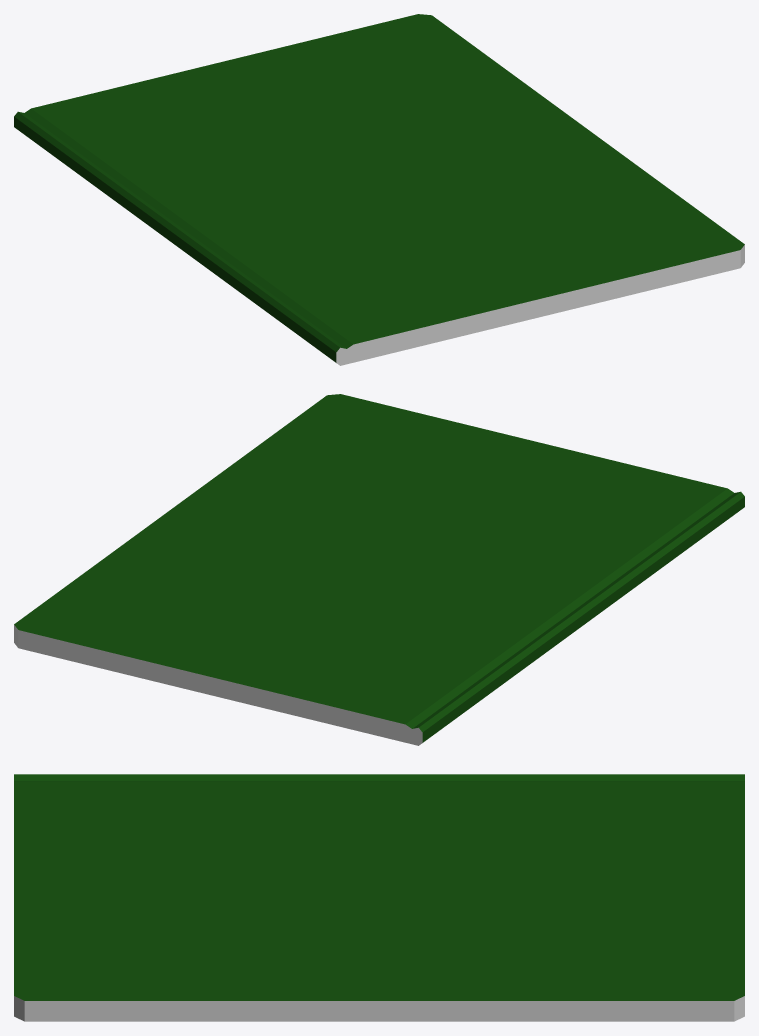
The model's file is Cahier.fbx.
3 views of the same model, one above another, from view 1: azimuth 30°, elevation 25°; view 2: azimuth 150°, elevation 25°; view 3: azimuth 270°, elevation 25° (orthographic). The views are drawn at different scales.
Parts seen in each view (by area): view 1: Cahier; view 2: Cahier; view 3: Cahier.
Part boxes in pixels (x1=…): Cahier: x1=14, y1=14, x2=744, y2=365; Cahier: x1=14, y1=394, x2=744, y2=745; Cahier: x1=14, y1=774, x2=744, y2=1021.
Size of the model in its own units: 23.68 by 32 by 1.
